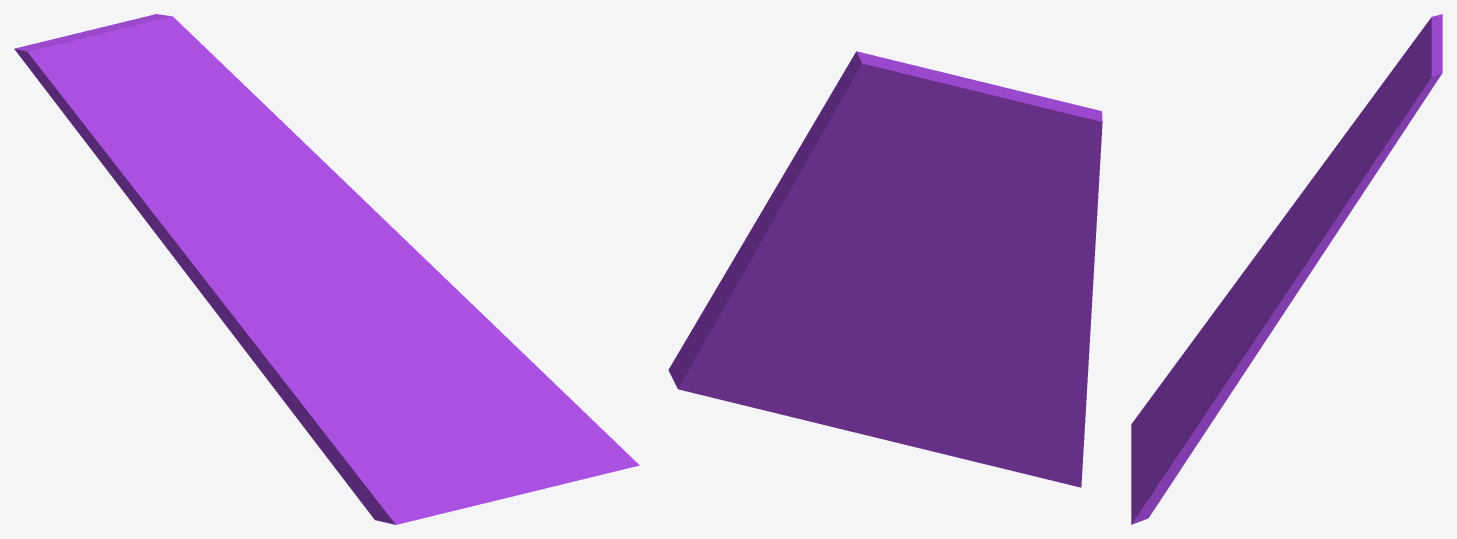
Rendered from Window_83_chunks.fbx.
3 renders of one model, left to right at view 1: azimuth 30°, elevation 25°; view 2: azimuth 150°, elevation 25°; view 3: azimuth 270°, elevation 25°, orthographic. The views are drawn at different scales.
Visible parts, largest first — view 1: Window_83_4, Window_83_5, Window_83_14, Window_83_7, Window_83_1, Window_83_0, Window_83_10, Window_83_11, Window_83_15, Window_83_3, Window_83_13, Window_83_12 (+2 smaller); view 2: Window_83_4, Window_83_5, Window_83_7, Window_83_14, Window_83_3, Window_83_13, Window_83_9, Window_83_1, Window_83_15, Window_83_11, Window_83_0, Window_83_10 (+3 smaller); view 3: Window_83_14, Window_83_4, Window_83_5, Window_83_11, Window_83_7, Window_83_9, Window_83_15, Window_83_10, Window_83_0, Window_83_1, Window_83_3, Window_83_13 (+2 smaller).
Part boxes in pixels (left/top/right/bottom): Window_83_4: left=14, top=15, right=227, bottom=177; Window_83_5: left=263, top=337, right=455, bottom=524; Window_83_14: left=459, top=310, right=639, bottom=486; Window_83_7: left=290, top=257, right=441, bottom=356; Window_83_1: left=91, top=146, right=229, bottom=318; Window_83_0: left=209, top=248, right=307, bottom=376; Window_83_10: left=253, top=158, right=391, bottom=262; Window_83_11: left=151, top=14, right=313, bottom=159; Window_83_15: left=384, top=275, right=477, bottom=380; Window_83_3: left=197, top=144, right=289, bottom=274; Window_83_13: left=448, top=409, right=552, bottom=510; Window_83_12: left=395, top=377, right=476, bottom=494; Window_83_4: left=870, top=59, right=1102, bottom=210; Window_83_5: left=921, top=341, right=1087, bottom=487; Window_83_7: left=748, top=222, right=1039, bottom=341; Window_83_14: left=668, top=260, right=820, bottom=415; Window_83_3: left=895, top=170, right=1059, bottom=322; Window_83_13: left=788, top=347, right=962, bottom=458; Window_83_9: left=755, top=148, right=891, bottom=255; Window_83_1: left=997, top=200, right=1097, bottom=331; Window_83_15: left=733, top=235, right=919, bottom=369; Window_83_11: left=799, top=51, right=888, bottom=175; Window_83_0: left=971, top=294, right=1090, bottom=374; Window_83_10: left=861, top=200, right=917, bottom=264; Window_83_14: left=1131, top=370, right=1238, bottom=524; Window_83_4: left=1342, top=14, right=1442, bottom=163; Window_83_5: left=1131, top=284, right=1244, bottom=448; Window_83_11: left=1340, top=69, right=1442, bottom=211; Window_83_7: left=1223, top=259, right=1282, bottom=342; Window_83_9: left=1270, top=202, right=1353, bottom=316; Window_83_15: left=1202, top=334, right=1263, bottom=389; Window_83_10: left=1274, top=189, right=1343, bottom=300; Window_83_0: left=1225, top=218, right=1292, bottom=296; Window_83_1: left=1284, top=99, right=1370, bottom=223; Window_83_3: left=1286, top=162, right=1355, bottom=242; Window_83_13: left=1131, top=414, right=1182, bottom=488.
Bounding box in the file's own units: 1139 × 960 × 824.
